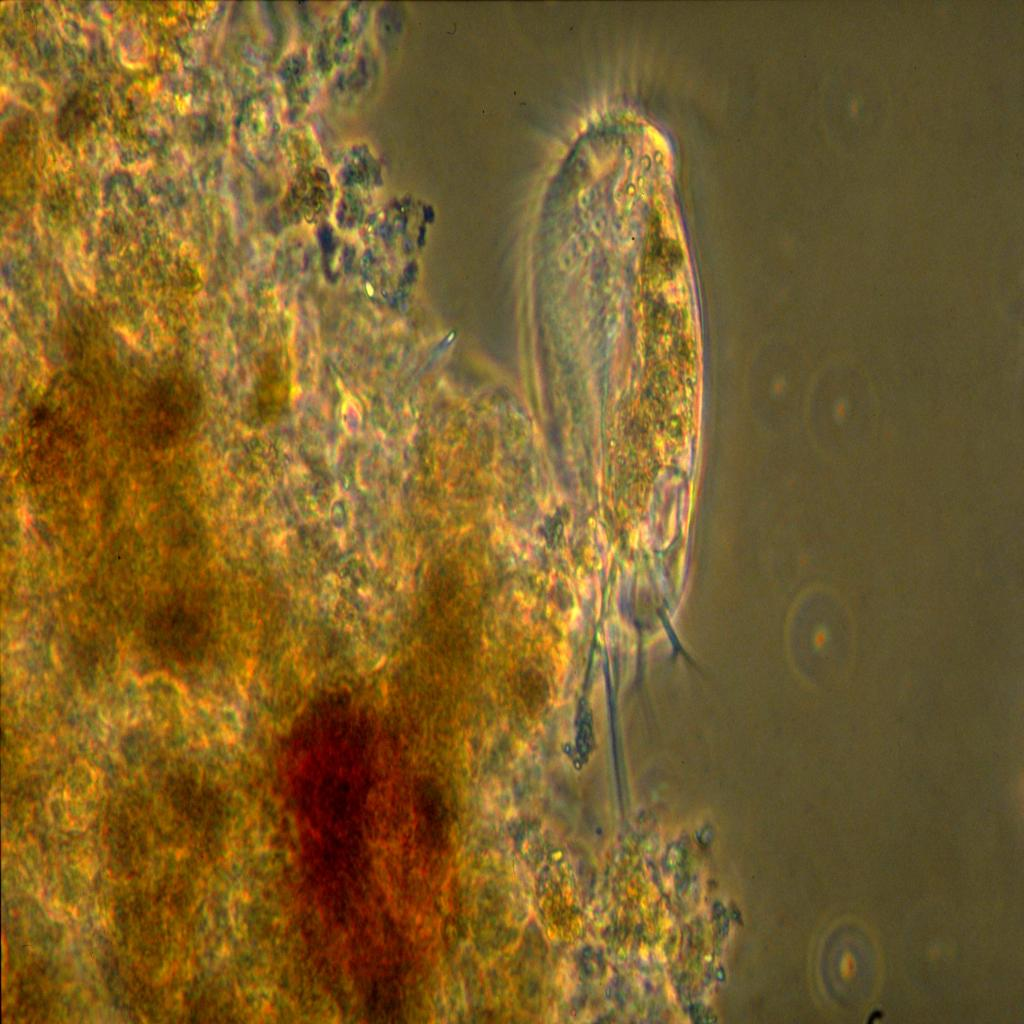Euplotes: (486, 20, 758, 818)
